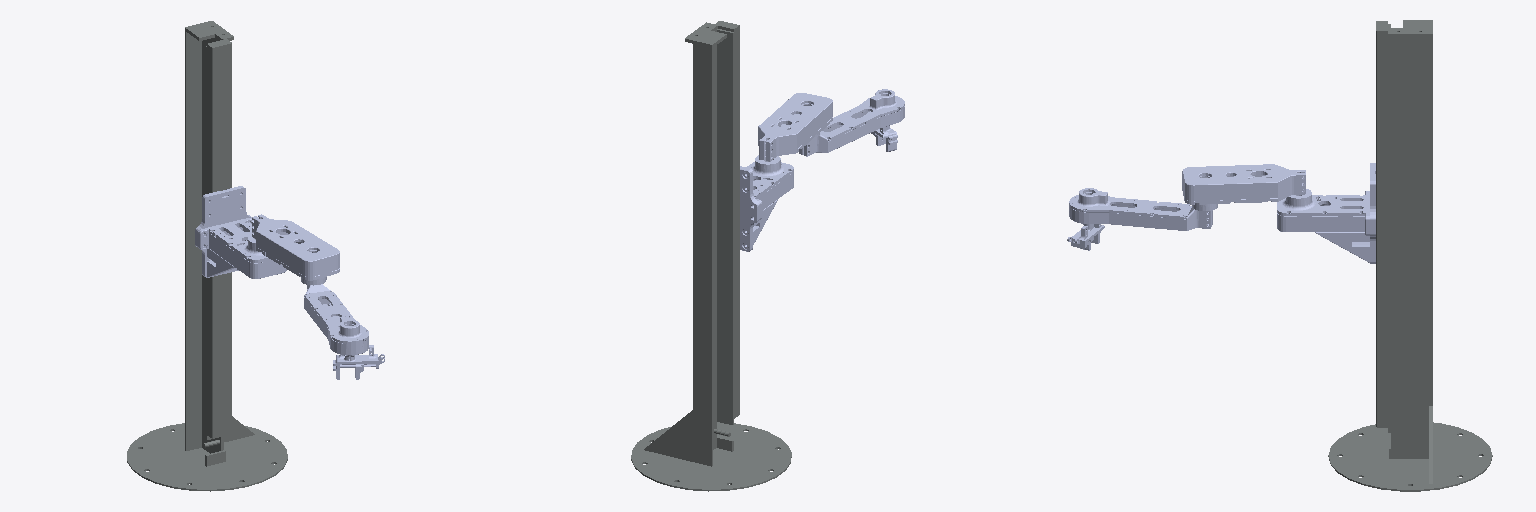
The robot description file, URDF, robot "scara_v2_asem":
<?xml version="1.0" encoding="utf-8"?>
<!-- This URDF was automatically created by SolidWorks to URDF Exporter! Originally created by Stephen Brawner (brawner@gmail.com) 
     Commit Version: 1.6.0-4-g7f85cfe  Build Version: 1.6.7995.38578
     For more information, please see http://wiki.ros.org/sw_urdf_exporter -->
<robot name="scara_v2_asem">
  <link name="world" />
  <link name="base_link">
    <inertial>
      <origin xyz="0.00779289313647138 0.110894655660121 0.0956125419275902" rpy="0 0 0" />
      <mass value="7.30456980597231" />
      <inertia ixx="0.53459655611012" ixy="-0.00064148208735216" ixz="-0.000331737575892981" iyy="0.0192646422877442" iyz="-0.00217230851215483" izz="0.531670484194258" />
    </inertial>
    <visual>
      <origin xyz="0 0 0" rpy="0 0 0" />
      <geometry>
        <mesh filename="package://scara_v2_ros_package/meshes/base_link.STL" />
      </geometry>
      <material name="">
        <color rgba="0.529411764705882 0.549019607843137 0.549019607843137 1" />
      </material>
    </visual>
    <collision>
      <origin xyz="0 0 0" rpy="0 0 0" />
      <geometry>
        <mesh filename="package://scara_v2_ros_package/meshes/base_link.STL" />
      </geometry>
    </collision>
  </link>
  <link name="link1">
    <inertial>
      <origin xyz="-0.0311088376984149 0.072017093942124 0.0182331776596625" rpy="0 0 0" />
      <mass value="0.476374817523317" />
      <inertia ixx="0.00108610371325878" ixy="2.66860218745773E-07" ixz="5.69366964335184E-07" iyy="0.00104464772295211" iyz="5.89466049073459E-05" izz="0.000695335760153793" />
    </inertial>
    <visual>
      <origin xyz="0 0 0" rpy="0 0 0" />
      <geometry>
        <mesh filename="package://scara_v2_ros_package/meshes/link1.STL" />
      </geometry>
      <material name="">
        <color rgba="0.792156862745098 0.819607843137255 0.933333333333333 1" />
      </material>
    </visual>
    <collision>
      <origin xyz="0 0 0" rpy="0 0 0" />
      <geometry>
        <mesh filename="package://scara_v2_ros_package/meshes/link1.STL" />
      </geometry>
    </collision>
  </link>
  <joint name="world_to_base" type="fixed">
    <origin xyz="0 0 0" rpy="-1.57079632679 0 0" />
    <parent link="world" />
    <child link="base_link" />
  </joint>
  <joint name="joint1" type="prismatic">
    <origin xyz="0.03125 -0.0859 -0.035955" rpy="0 0 0" />
    <parent link="base_link" />
    <child link="link1" />
    <axis xyz="0 -1 0" />
    <limit lower="0" upper="0.10" effort="100" velocity="0.10" />
  </joint>
  <link name="link2">
    <inertial>
      <origin xyz="0.000221120559350497 -0.102219735376576 0.0107244539207943" rpy="0 0 0" />
      <mass value="0.305128029798878" />
      <inertia ixx="0.00100780963359252" ixy="1.8265883862036E-06" ixz="-1.90795309126864E-07" iyy="0.000179489341626571" iyz="-1.95557325920398E-05" izz="0.00112958339341238" />
    </inertial>
    <visual>
      <origin xyz="0 0 0" rpy="0 0 0" />
      <geometry>
        <mesh filename="package://scara_v2_ros_package/meshes/link2.STL" />
      </geometry>
      <material name="">
        <color rgba="0.792156862745098 0.819607843137255 0.933333333333333 1" />
      </material>
    </visual>
    <collision>
      <origin xyz="0 0 0" rpy="0 0 0" />
      <geometry>
        <mesh filename="package://scara_v2_ros_package/meshes/link2.STL" />
      </geometry>
    </collision>
  </link>
  <joint name="joint2" type="revolute">
    <origin xyz="-0.03125 0 -0.056045" rpy="1.5708 0.082676 -3.1416" />
    <parent link="link1" />
    <child link="link2" />
    <axis xyz="0 0 1" />
    <limit lower="-3.14159" upper="3.14159" effort="10" velocity="1.0" />
  </joint>
  <link name="link3">
    <inertial>
      <origin xyz="2.86863589614439E-06 -0.120593503386313 -0.0292349890322536" rpy="0 0 0" />
      <mass value="0.185051785896803" />
      <inertia ixx="0.000927083603724636" ixy="-5.47427896939518E-08" ixz="-4.43514386843621E-09" iyy="6.55353719604442E-05" iyz="-2.02132561155051E-05" izz="0.00096935835313498" />
    </inertial>
    <visual>
      <origin xyz="0 0 0" rpy="0 0 0" />
      <geometry>
        <mesh filename="package://scara_v2_ros_package/meshes/link3.STL" />
      </geometry>
      <material name="">
        <color rgba="0.792156862745098 0.819607843137255 0.933333333333333 1" />
      </material>
    </visual>
    <collision>
      <origin xyz="0 0 0" rpy="0 0 0" />
      <geometry>
        <mesh filename="package://scara_v2_ros_package/meshes/link3.STL" />
      </geometry>
    </collision>
  </link>
  <joint name="joint3" type="revolute">
    <origin xyz="0 -0.16 0.04065" rpy="3.1416 0 -2.8496" />
    <parent link="link2" />
    <child link="link3" />
    <axis xyz="0 0 1" />
    <limit lower="-3.14159" upper="3.14159" effort="10" velocity="1.0" />
  </joint>
  <link name="link4">
    <inertial>
      <origin xyz="-0.00292490574527843 -0.00604379873164884 0.0170983274966861" rpy="0 0 0" />
      <mass value="0.0448955553024757" />
      <inertia ixx="4.44539061468932E-06" ixy="-1.26673083190513E-06" ixz="7.4073779161919E-07" iyy="2.40381241832529E-05" iyz="2.03596125137621E-07" izz="2.58962098200891E-05" />
    </inertial>
    <visual>
      <origin xyz="0 0 0" rpy="0 0 0" />
      <geometry>
        <mesh filename="package://scara_v2_ros_package/meshes/link4.STL" />
      </geometry>
      <material name="">
        <color rgba="0.792156862745098 0.819607843137255 0.933333333333333 1" />
      </material>
    </visual>
    <collision>
      <origin xyz="0 0 0" rpy="0 0 0" />
      <geometry>
        <mesh filename="package://scara_v2_ros_package/meshes/link4.STL" />
      </geometry>
    </collision>
  </link>
  <joint name="joint4" type="fixed">
    <origin xyz="0.017567 -0.18776 -0.06775" rpy="1.5708 0 -0.27725" />
    <parent link="link3" />
    <child link="link4" />
  </joint>
  <link name="link5">
    <inertial>
      <origin xyz="0.00556640917295986 -0.011997881931687 -5.55111512312578E-17" rpy="0 0 0" />
      <mass value="0.00551202019287163" />
      <inertia ixx="6.06611143877807E-07" ixy="-4.66324267086994E-08" ixz="3.97046694025453E-23" iyy="3.38003719051662E-07" iyz="-1.65436122510606E-23" izz="4.11928076649167E-07" />
    </inertial>
    <visual>
      <origin xyz="0 0 0" rpy="0 0 0" />
      <geometry>
        <mesh filename="package://scara_v2_ros_package/meshes/link5.STL" />
      </geometry>
      <material name="">
        <color rgba="0.792156862745098 0.819607843137255 0.933333333333333 1" />
      </material>
    </visual>
    <collision>
      <origin xyz="0 0 0" rpy="0 0 0" />
      <geometry>
        <mesh filename="package://scara_v2_ros_package/meshes/link5.STL" />
      </geometry>
    </collision>
  </link>
  <joint name="joint5" type="fixed">
    <origin xyz="-0.0031703 -0.0063 0.019" rpy="0 0 0" />
    <parent link="link4" />
    <child link="link5" />
  </joint>
</robot>

--- Render facts (derived) ---
3 views of the same robot in one strip: view 1: azimuth 30°, elevation 25°; view 2: azimuth 150°, elevation 25°; view 3: azimuth 270°, elevation 25° (orthographic).
Model scara_v2_asem with 7 links and 6 joints (2 revolute, 1 prismatic, 3 fixed), rooted at world, posed every joint at zero.
Links seen in each view (by area): view 1: base_link, link1, link2, link3, link4; view 2: base_link, link2, link1, link3; view 3: base_link, link1, link2, link3, link4.
Link boxes in pixels (left/top/right/bottom): base_link: left=127, top=21, right=287, bottom=491; link1: left=195, top=186, right=286, bottom=278; link2: left=252, top=214, right=339, bottom=285; link3: left=304, top=284, right=368, bottom=355; link4: left=333, top=345, right=384, bottom=379; base_link: left=631, top=21, right=791, bottom=491; link2: left=758, top=93, right=832, bottom=161; link1: left=740, top=155, right=793, bottom=251; link3: left=799, top=89, right=904, bottom=156; base_link: left=1328, top=20, right=1492, bottom=491; link1: left=1277, top=163, right=1375, bottom=263; link2: left=1182, top=164, right=1305, bottom=210; link3: left=1069, top=188, right=1212, bottom=230; link4: left=1067, top=224, right=1104, bottom=248.
Bounding box of the posed robot: 0.2774 × 0.7239 × 0.8093 m (x, y, z).
Meshes: 6 distinct files referenced, 6 mesh visuals loaded (6 binary STL).
